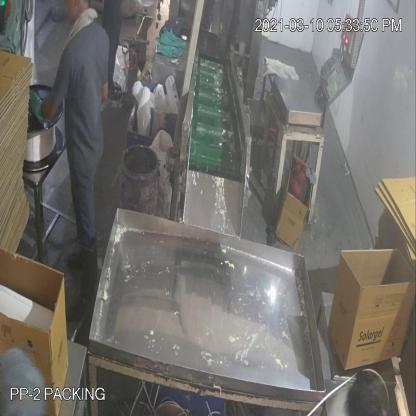glove: (23, 80, 48, 132)
